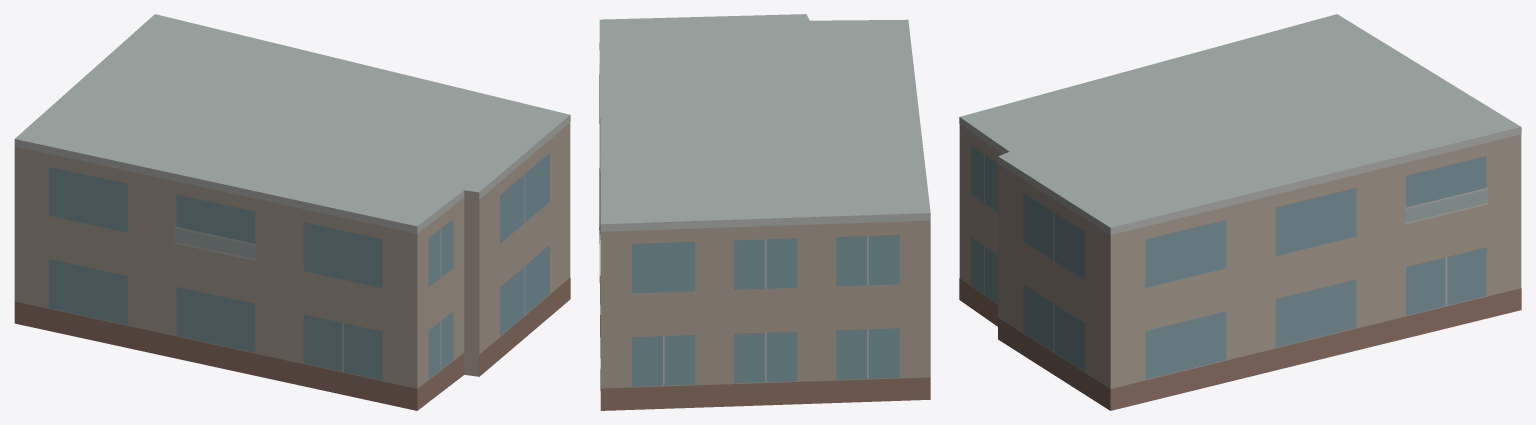
Rendered from survey-upis-32623601.glb.
3 views of the same model, side by side, from view 1: azimuth 30°, elevation 25°; view 2: azimuth 150°, elevation 25°; view 3: azimuth 270°, elevation 25° (orthographic).
Parts seen in each view (by area): view 1: survey-upis-32623601.tmp; view 2: survey-upis-32623601.tmp; view 3: survey-upis-32623601.tmp.
Part boxes in pixels (bbox=[...]): survey-upis-32623601.tmp: bbox=[14, 14, 570, 410]; survey-upis-32623601.tmp: bbox=[599, 14, 930, 410]; survey-upis-32623601.tmp: bbox=[959, 14, 1521, 410].
Bounding box in the file's own units: 15.29 × 6.1 × 16.98.
